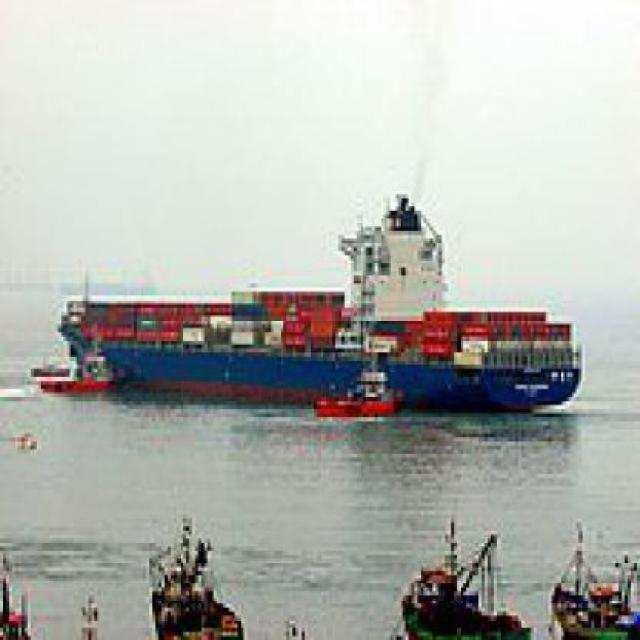container: (53, 187, 593, 427)
